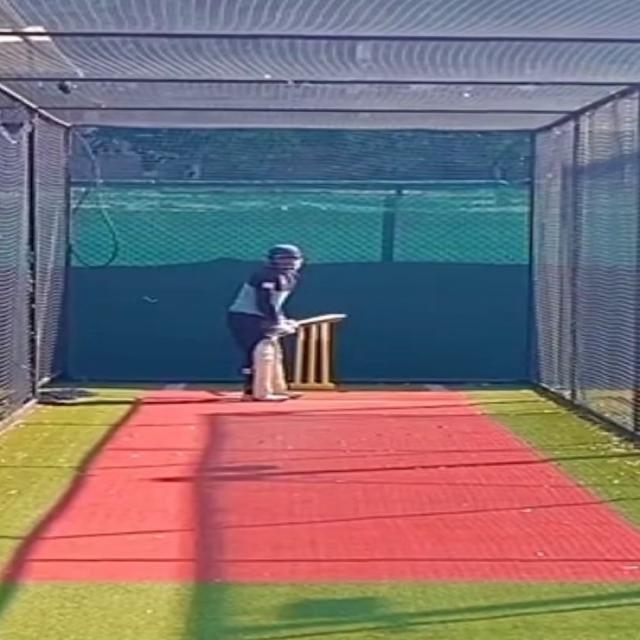stump: (286, 321, 336, 388)
